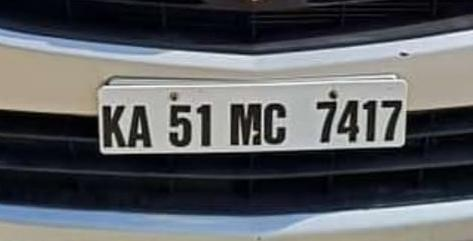1: (194, 97, 216, 150), (360, 97, 379, 146)
4: (337, 95, 361, 145)
5: (164, 100, 194, 150)
7: (314, 97, 339, 146), (381, 94, 403, 145)
A: (126, 103, 153, 150)
C: (263, 97, 290, 148)
K: (100, 103, 127, 151)
M: (225, 97, 264, 150)
